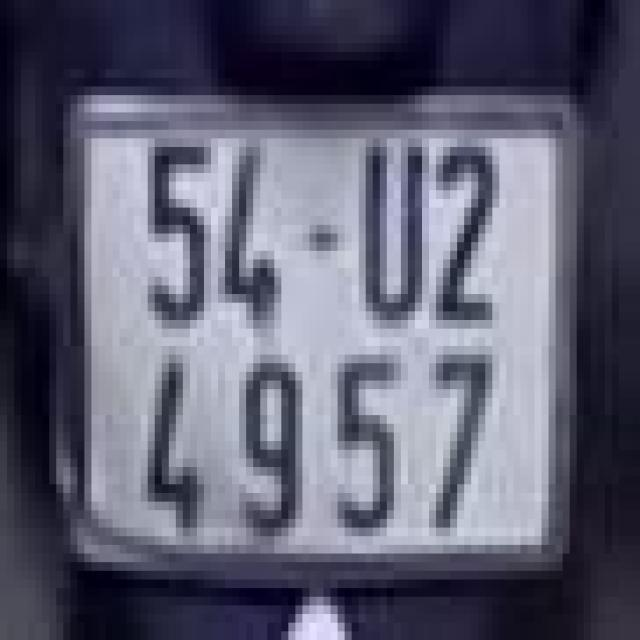2: (432, 130, 503, 320)
4: (134, 346, 211, 519), (225, 130, 288, 328)
5: (130, 121, 215, 346), (327, 338, 404, 536)
7: (418, 337, 503, 545)
9: (229, 354, 306, 545)
U: (352, 130, 429, 328)
